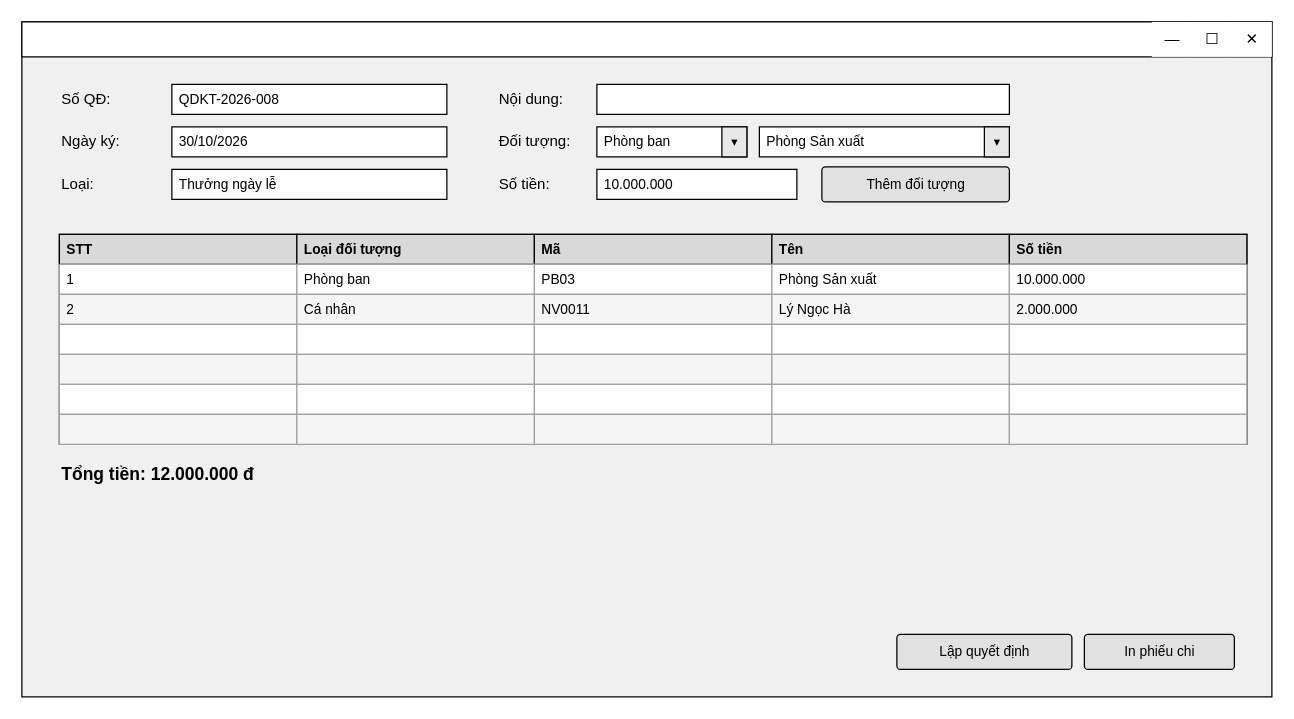
Some shapes in this 1294 by 719 pixel diagram are drawn without their labels. The shapes that lost their labels are listed below. From the top down, each one's box as (x1, y1, x2, y2) in pixels, then its label:
(21, 21, 1272, 57): Quyết định khen thưởng
(596, 83, 1009, 114): Thưởng hoàn thành kế hoạch Q3
